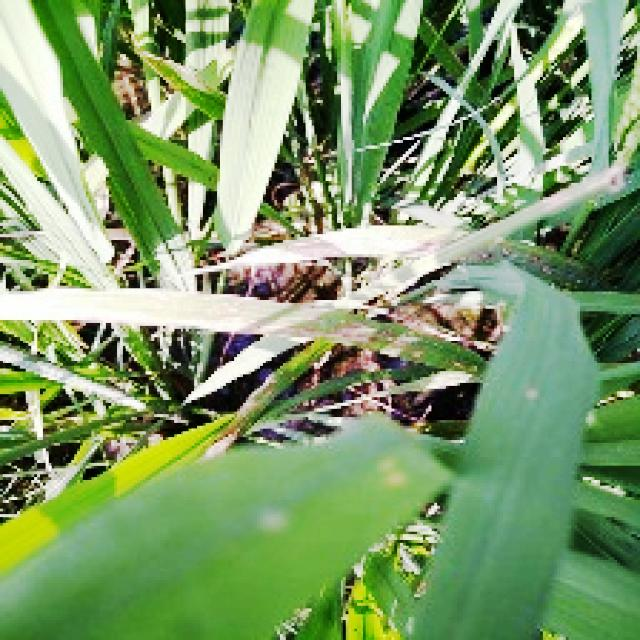health: (213, 0, 302, 229)
